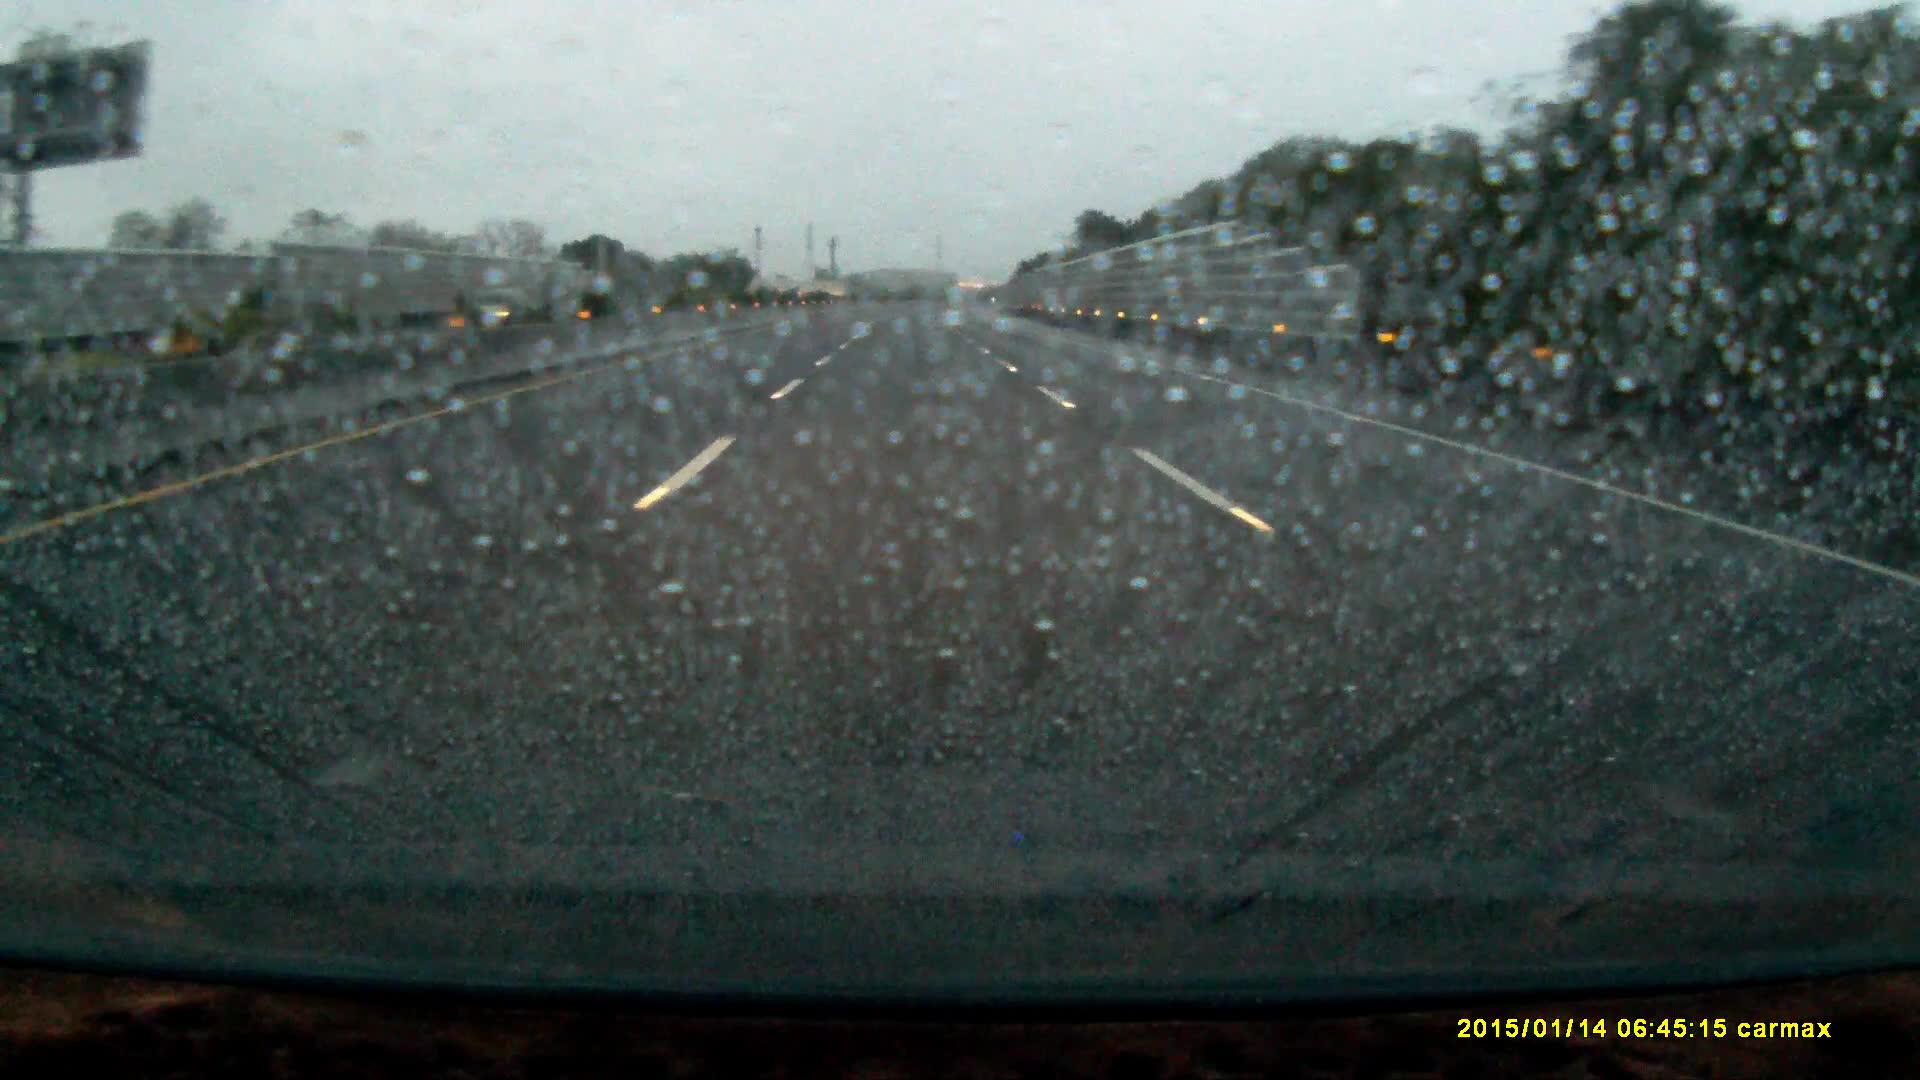vehicle: (459, 285, 524, 320)
